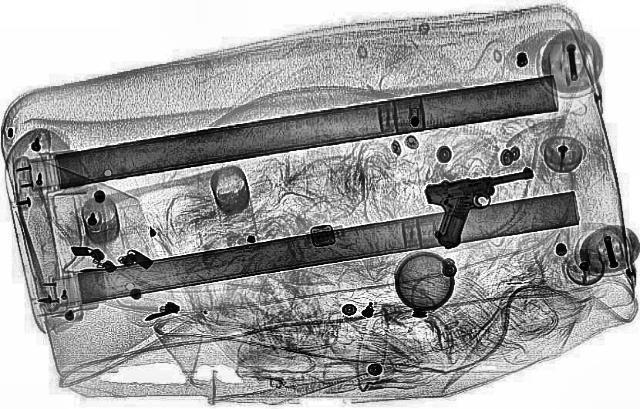Gun: (416, 169, 558, 247)
